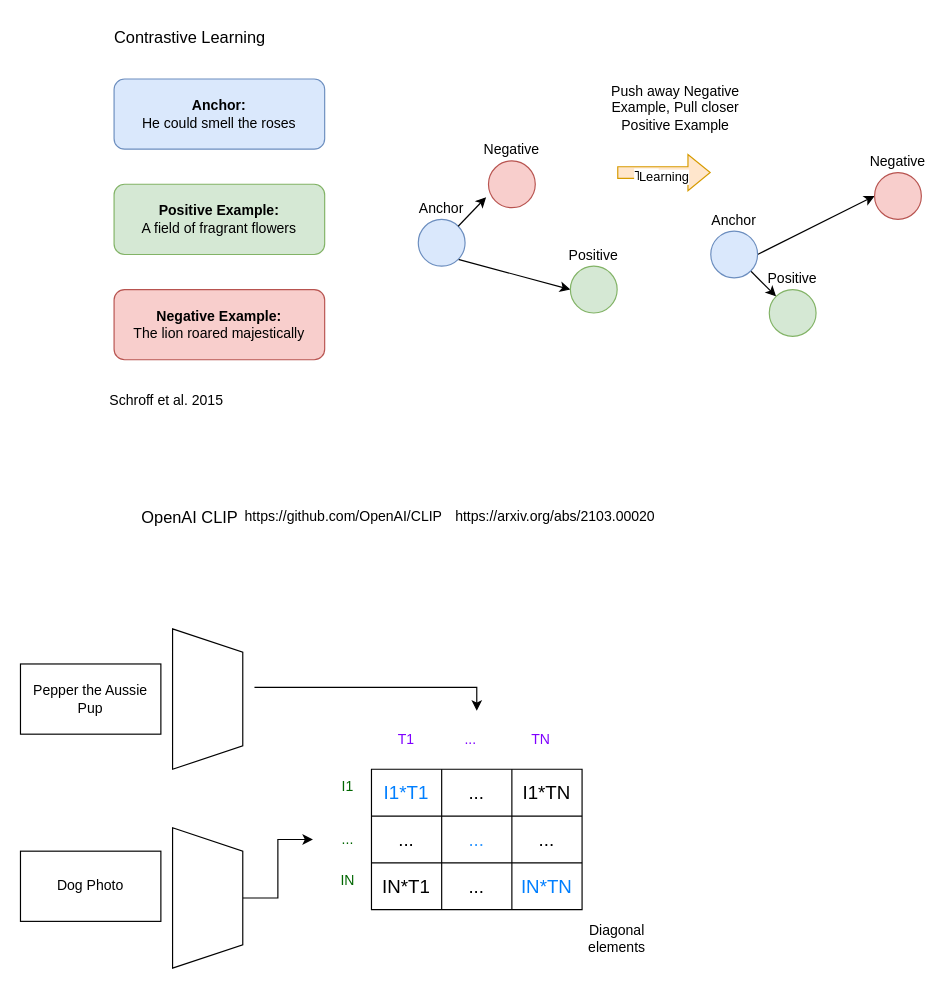
Some shapes in this 945 by 989 pixel diagram are drawn without their labels. The centre of each missing label's shape, as x and y in pixels:
"Image Encoder" goes at [207,897].
"Text Encoder" goes at [207,698].
